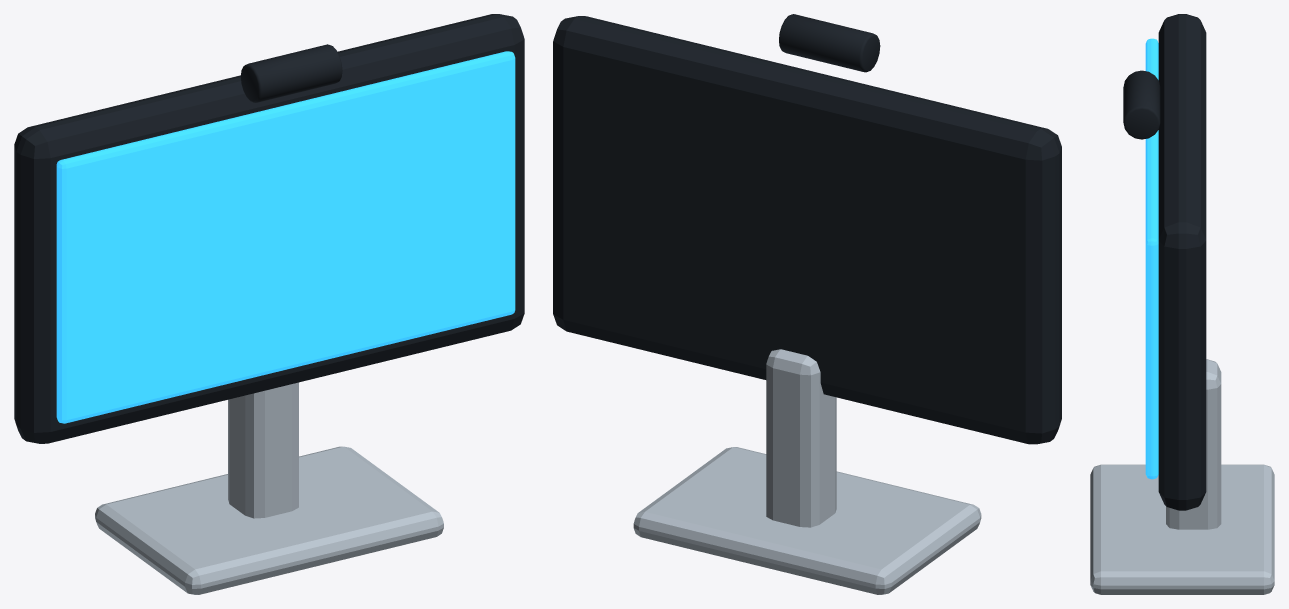
File: computer-blender.glb
The picture shows the model from 3 angles, left to right: view 1: azimuth 30°, elevation 25°; view 2: azimuth 150°, elevation 25°; view 3: azimuth 270°, elevation 25°; orthographic projection. The views are drawn at different scales.
Visible parts, largest first — view 1: monitor · Active display, monitor · Soft black, monitor · Brushed aluminum; view 2: monitor · Soft black, monitor · Brushed aluminum; view 3: monitor · Soft black, monitor · Brushed aluminum, monitor · Active display.
Boxes of the visible parts, left/top/right/bottom form: monitor · Active display: left=56, top=51, right=515, bottom=423; monitor · Soft black: left=14, top=14, right=524, bottom=443; monitor · Brushed aluminum: left=95, top=382, right=443, bottom=594; monitor · Soft black: left=553, top=14, right=1061, bottom=444; monitor · Brushed aluminum: left=633, top=349, right=981, bottom=594; monitor · Soft black: left=1123, top=14, right=1206, bottom=510; monitor · Brushed aluminum: left=1090, top=359, right=1274, bottom=594; monitor · Active display: left=1145, top=38, right=1158, bottom=479.
Size of the model in its own units: 0.72 by 0.6775 by 0.25.
